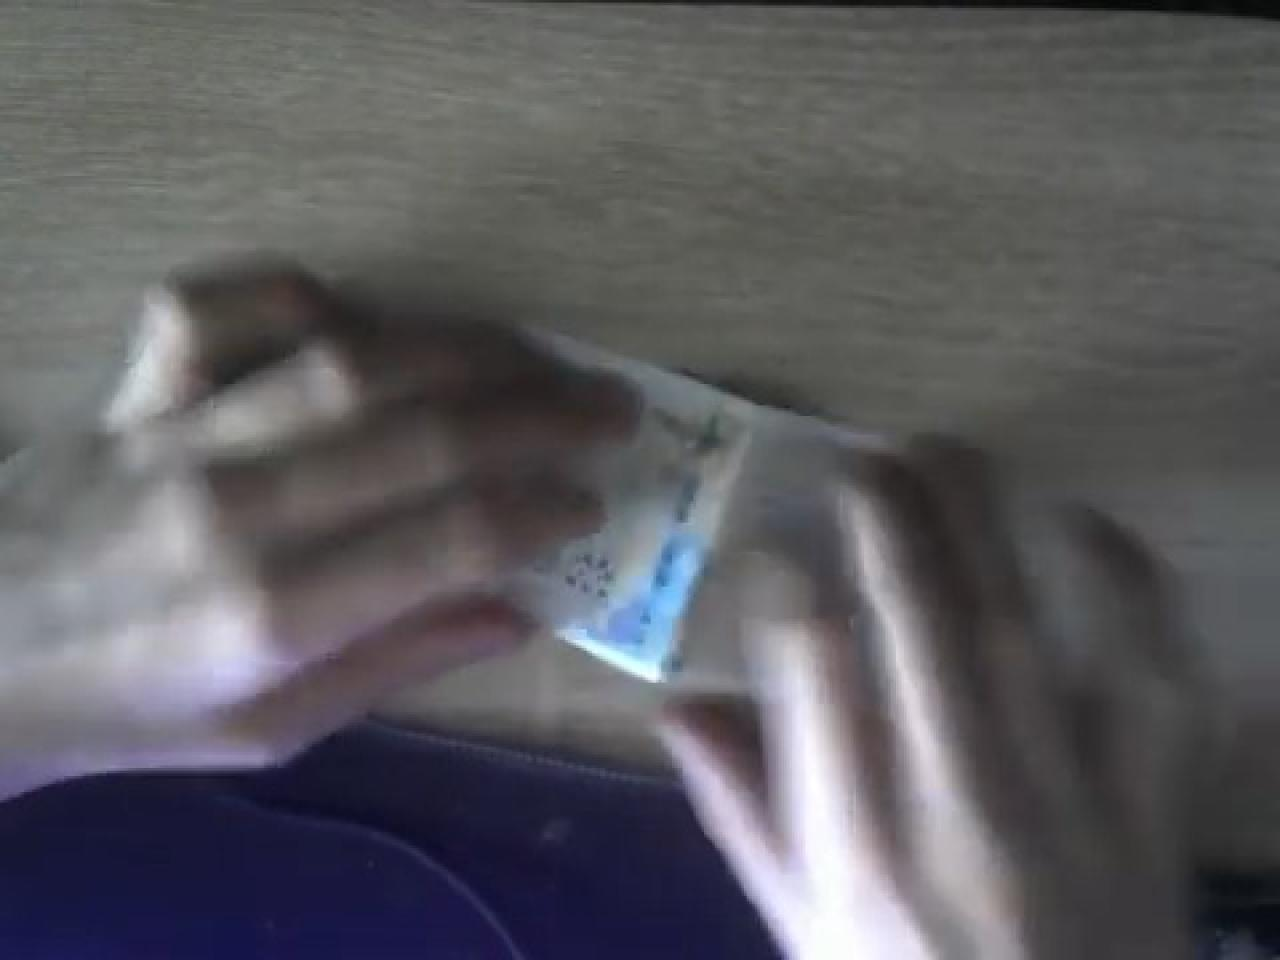20leva: (531, 331, 909, 626)
